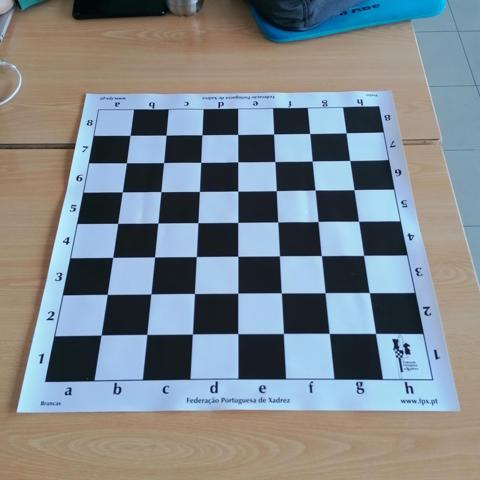xcorner: (157, 127, 173, 144), (154, 155, 171, 171), (151, 184, 168, 200), (145, 249, 161, 266), (190, 183, 206, 200), (188, 215, 205, 231), (185, 286, 201, 303), (182, 327, 199, 343), (314, 248, 330, 265), (343, 152, 359, 169), (121, 128, 137, 144), (117, 155, 133, 171), (113, 184, 129, 200), (108, 216, 124, 232), (103, 250, 119, 266), (97, 287, 113, 303), (91, 327, 107, 343), (148, 215, 164, 231), (141, 287, 157, 303), (137, 327, 153, 343), (193, 127, 209, 143), (192, 154, 208, 170), (187, 249, 203, 265), (229, 127, 245, 143), (229, 154, 245, 170), (229, 183, 245, 199), (229, 215, 245, 231), (229, 249, 245, 265), (229, 286, 245, 302), (228, 327, 244, 343), (266, 126, 282, 142), (267, 153, 283, 169), (268, 183, 284, 199), (270, 214, 286, 230), (271, 249, 287, 265), (273, 286, 289, 302), (275, 327, 291, 343), (302, 126, 318, 142), (305, 153, 321, 169), (307, 182, 323, 198), (310, 214, 326, 230), (317, 286, 333, 302), (321, 327, 337, 343), (339, 125, 355, 141), (347, 182, 363, 198), (351, 214, 367, 230), (356, 248, 372, 264), (362, 286, 378, 302), (368, 327, 384, 343)
